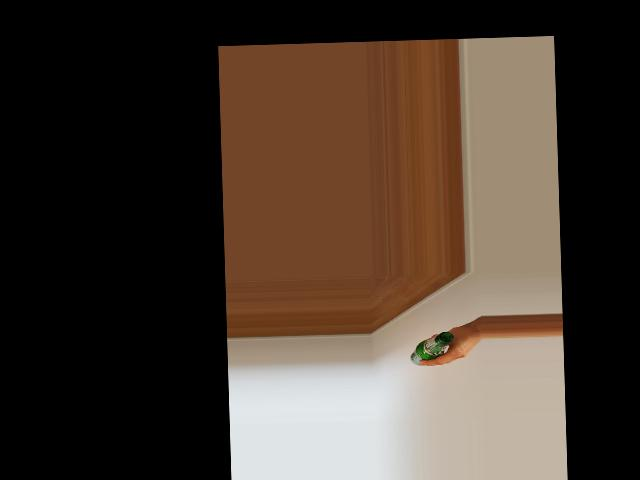beer: (410, 330, 454, 365)
